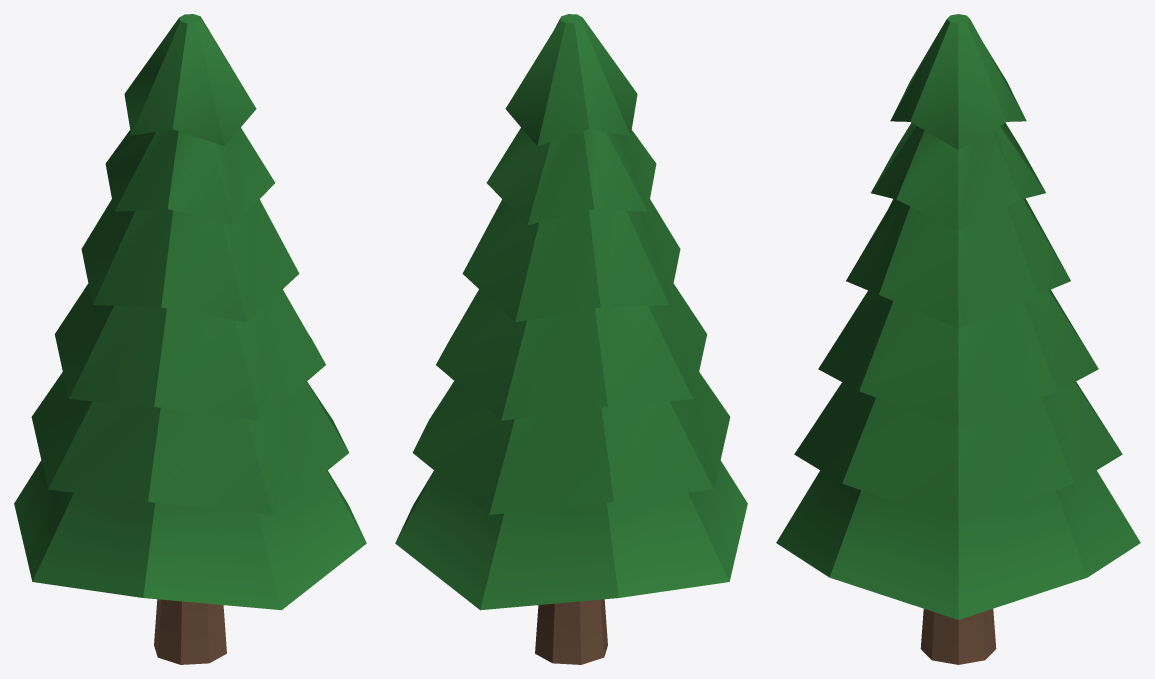
File: obj_tree2_1.fbx
3 views of the same model, side by side, from view 1: azimuth 30°, elevation 25°; view 2: azimuth 150°, elevation 25°; view 3: azimuth 270°, elevation 25° (orthographic).
Parts seen in each view (by area): view 1: obj_tree2_1; view 2: obj_tree2_1; view 3: obj_tree2_1.
Boxes of the visible parts, x1,y1,x2,y2 form: obj_tree2_1: [14, 14, 366, 664]; obj_tree2_1: [395, 14, 747, 664]; obj_tree2_1: [776, 14, 1140, 664].
Size of the model in its own units: 2.24 by 4.27 by 2.24.
1 material, 1 textured.
